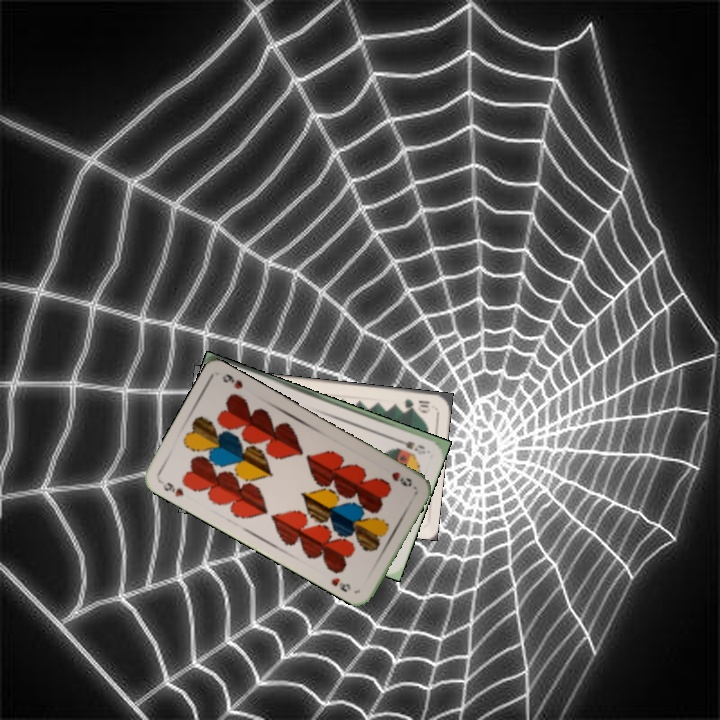G10: (401, 395, 433, 414)
H9: (387, 467, 415, 490), (159, 478, 186, 499)
SO: (391, 434, 428, 457)
